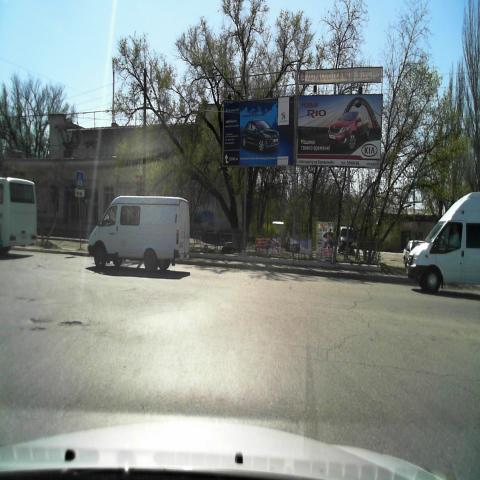8_15: (74, 188, 85, 197)
